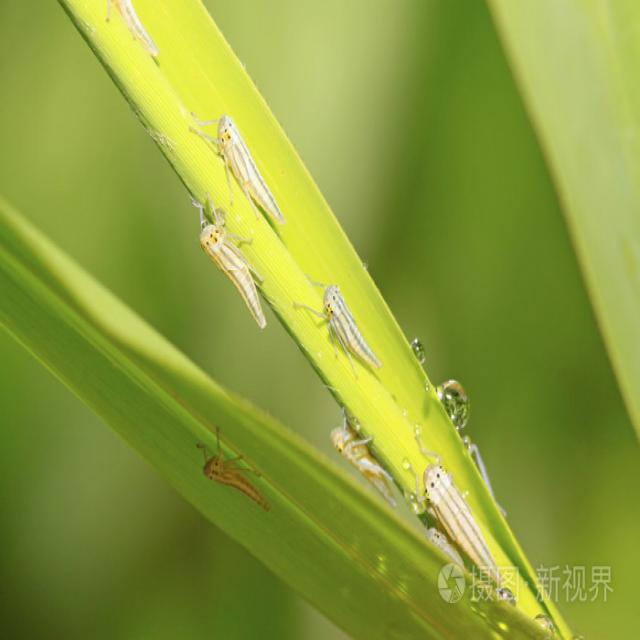Yechan: (420, 443, 511, 598), (189, 215, 274, 335), (304, 264, 381, 380), (215, 110, 285, 223), (328, 414, 398, 519)
